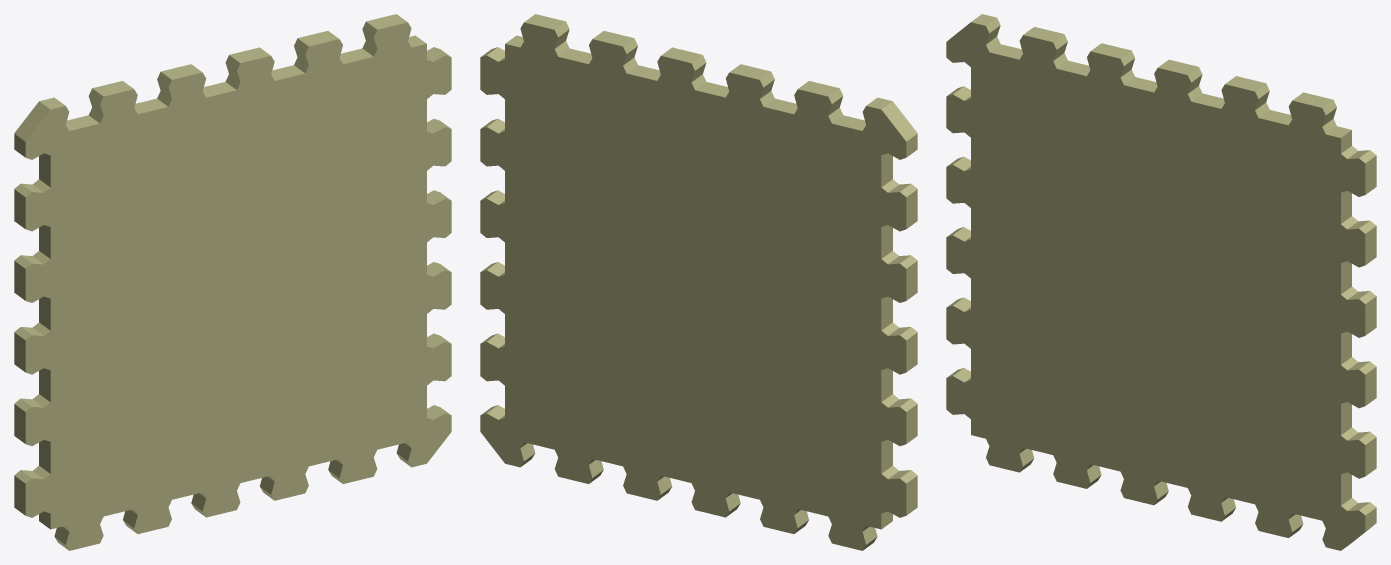
File: FoamMat_Green.fbx
3 renders of one model, left to right at view 1: azimuth 30°, elevation 25°; view 2: azimuth 150°, elevation 25°; view 3: azimuth 330°, elevation 25°, orthographic.
Visible parts, largest first — view 1: FoamMat_Blue; view 2: FoamMat_Blue; view 3: FoamMat_Blue.
Boxes of the visible parts, x1=… form: FoamMat_Blue: x1=14, y1=14, x2=451, y2=550; FoamMat_Blue: x1=480, y1=14, x2=917, y2=550; FoamMat_Blue: x1=946, y1=14, x2=1376, y2=550.
Bounding box in the file's own units: 431 × 431 × 20.
